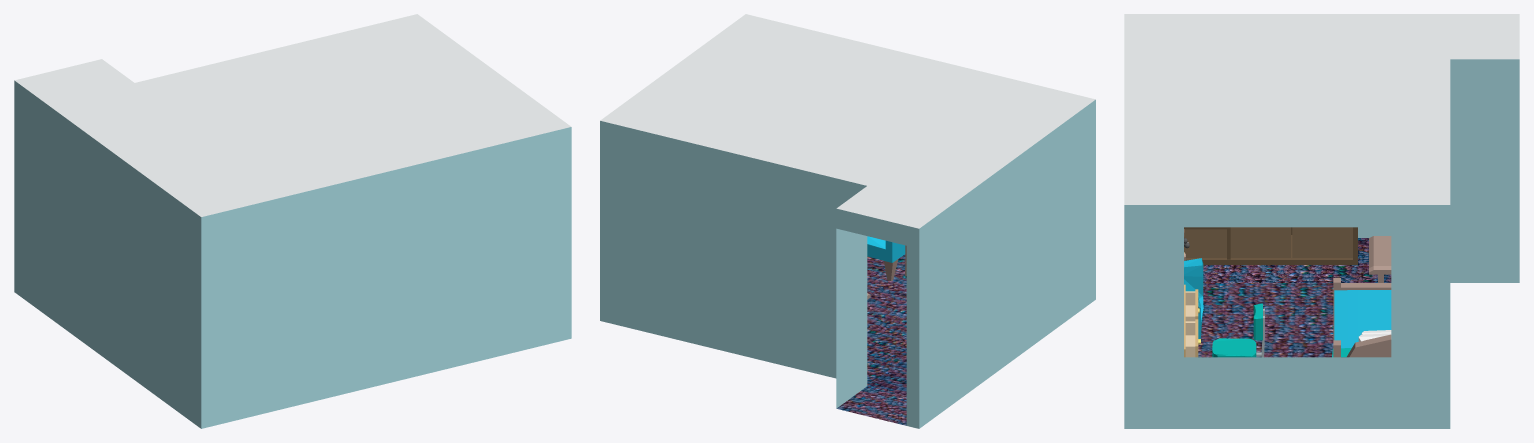
File: bedroom2_Double 1.fbx
The picture shows the model from 3 angles, left to right: view 1: azimuth 30°, elevation 25°; view 2: azimuth 150°, elevation 25°; view 3: azimuth 270°, elevation 25°; orthographic projection. The views are drawn at different scales.
Parts seen in each view (by area): view 1: Cube; view 2: Cube, group49029193; view 3: Cube, SM_Closet_02, Bed_01_Cube.044, model, group49029193, group1245598860, group_1719337477, group_1473695789.
Part boxes in pixels (x1,y1,x2,y2): Cube: [14, 14, 571, 428]; Cube: [600, 14, 1095, 428]; group49029193: [867, 236, 905, 262]; Cube: [1124, 14, 1519, 428]; SM_Closet_02: [1184, 227, 1357, 264]; Bed_01_Cube.044: [1332, 278, 1391, 357]; model: [1369, 236, 1391, 282]; group49029193: [1184, 258, 1203, 338]; group1245598860: [1212, 338, 1256, 357]; group_1719337477: [1185, 319, 1200, 357]; group_1473695789: [1185, 289, 1199, 321].
Bounding box in the file's own units: 2288 × 1250 × 2000.
